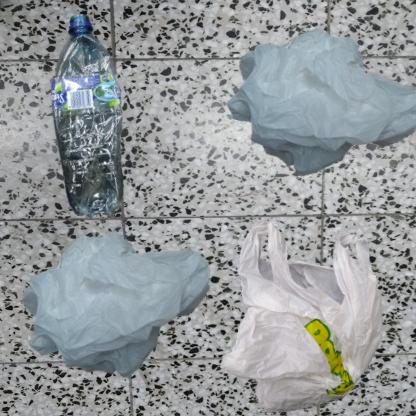bolsa: (10, 213, 239, 404), (213, 10, 416, 217), (213, 213, 407, 416)
botella: (10, 10, 201, 265)
